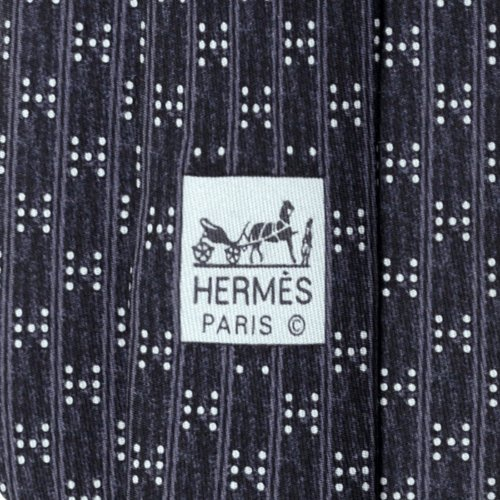HERMES: (186, 182, 319, 339)
